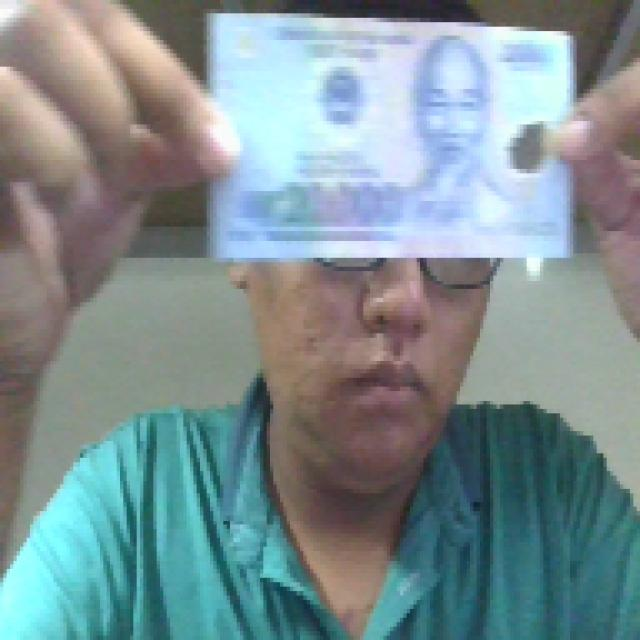20 000 VND: (197, 5, 580, 266)
